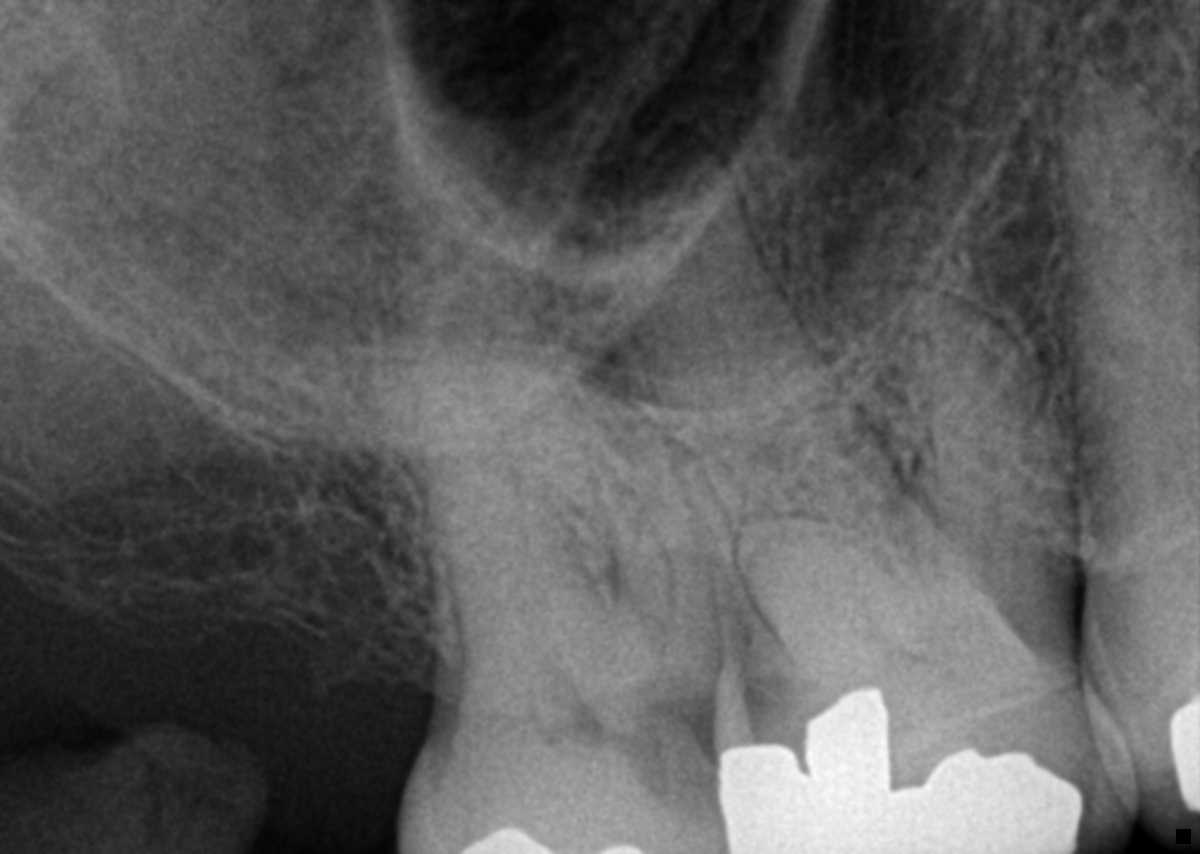Distal Root: (360, 367, 602, 687), (733, 510, 902, 689)
Main Root: (1056, 57, 1200, 547)
Mesial Root: (837, 277, 1078, 645), (486, 330, 743, 665)
Palatal Root: (620, 129, 968, 684), (394, 197, 674, 681)
decay: (617, 673, 723, 822)
